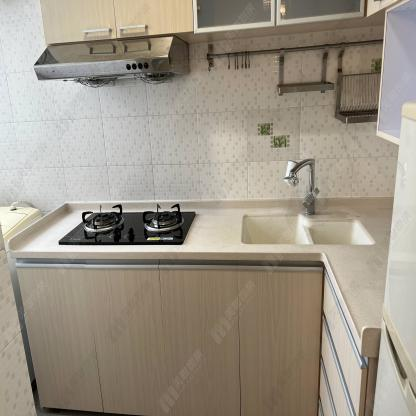Cupboard: (14, 265, 367, 416)
Exhaust Hood: (34, 36, 191, 88)
Faucet: (282, 151, 322, 215)
Sink: (235, 213, 377, 245)
Stove: (60, 202, 196, 244)
